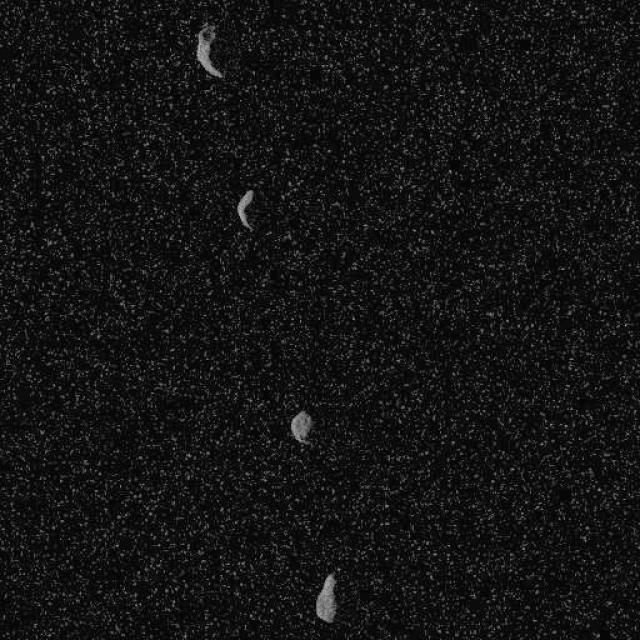D2: (195, 22, 225, 78), (314, 572, 338, 622), (288, 409, 314, 445), (235, 189, 255, 230)
